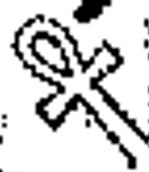Ankh: (6, 10, 147, 166)
